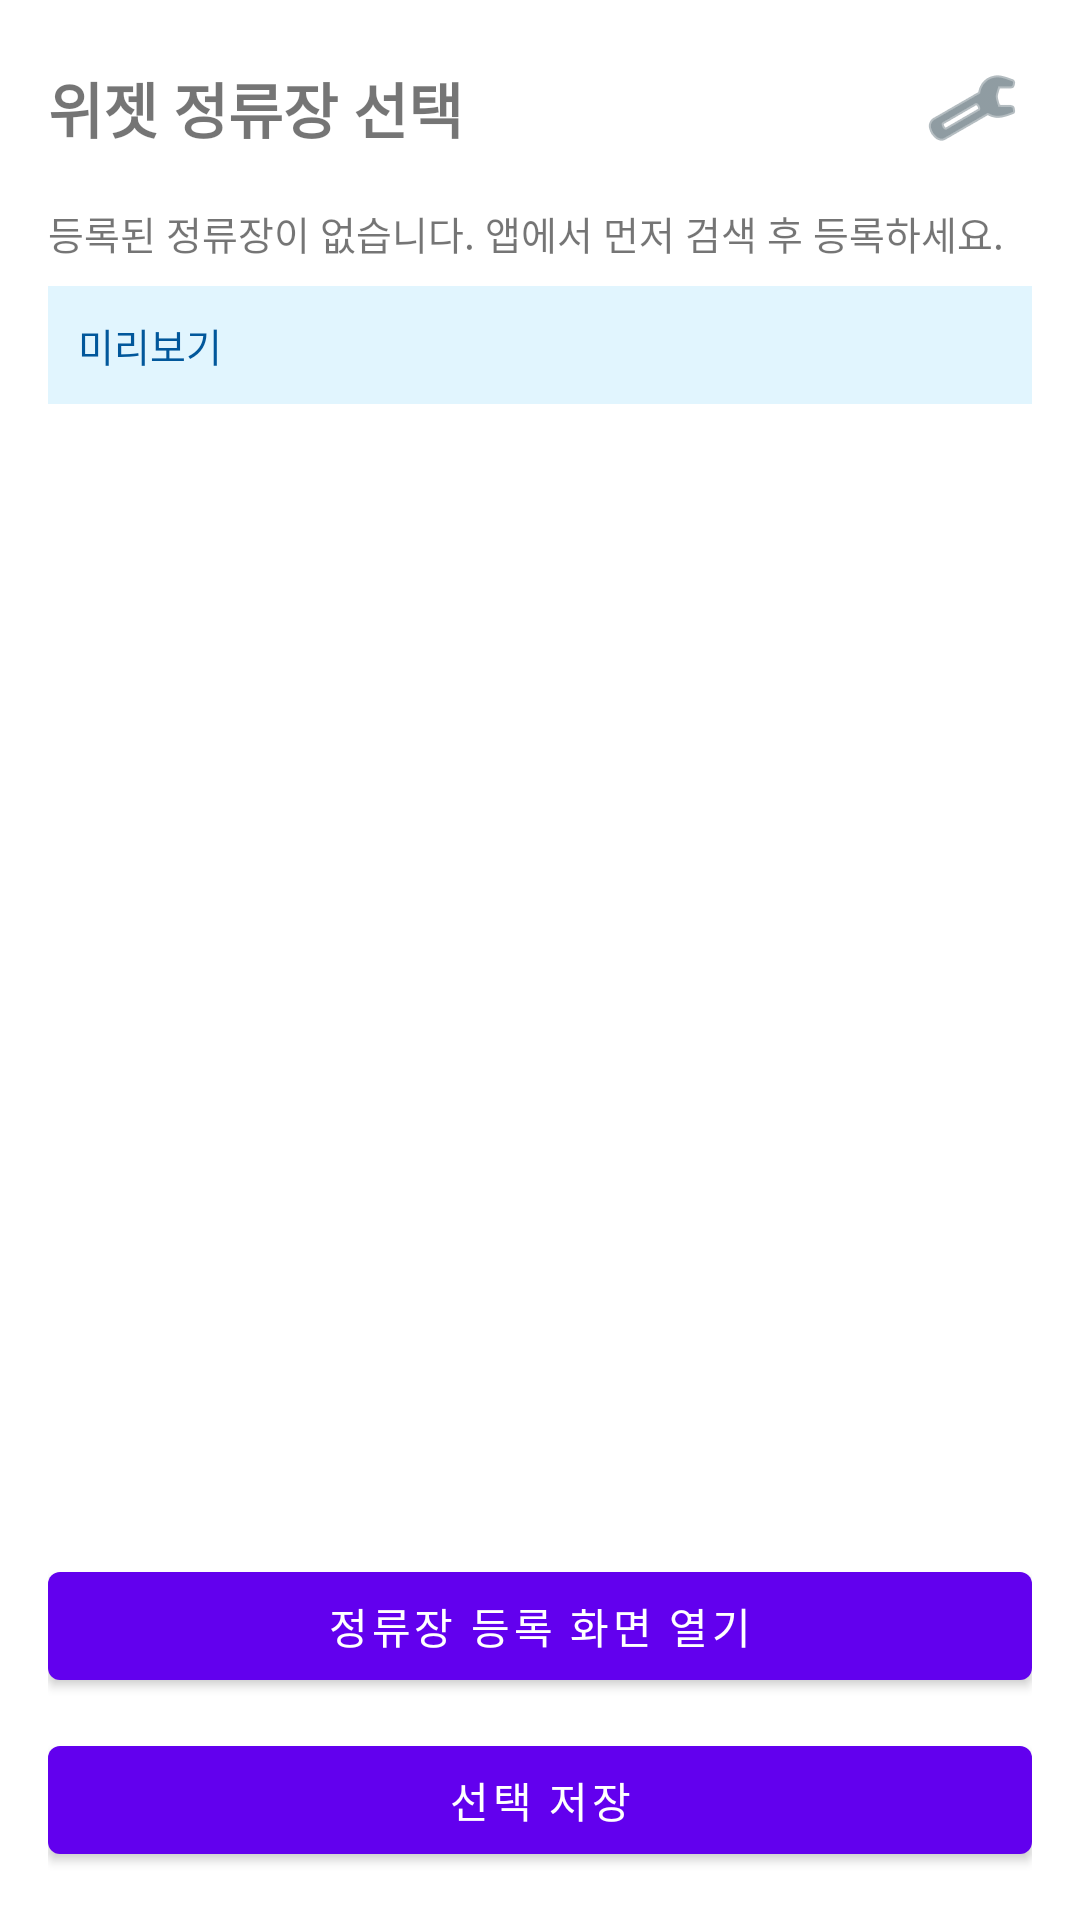

Locate icon controls on the screen. Image size 1080*1920, boxes as Rect(x1, y1, x2, y2).
위젯 커스텀 설정: Rect(929, 75, 1015, 141)
